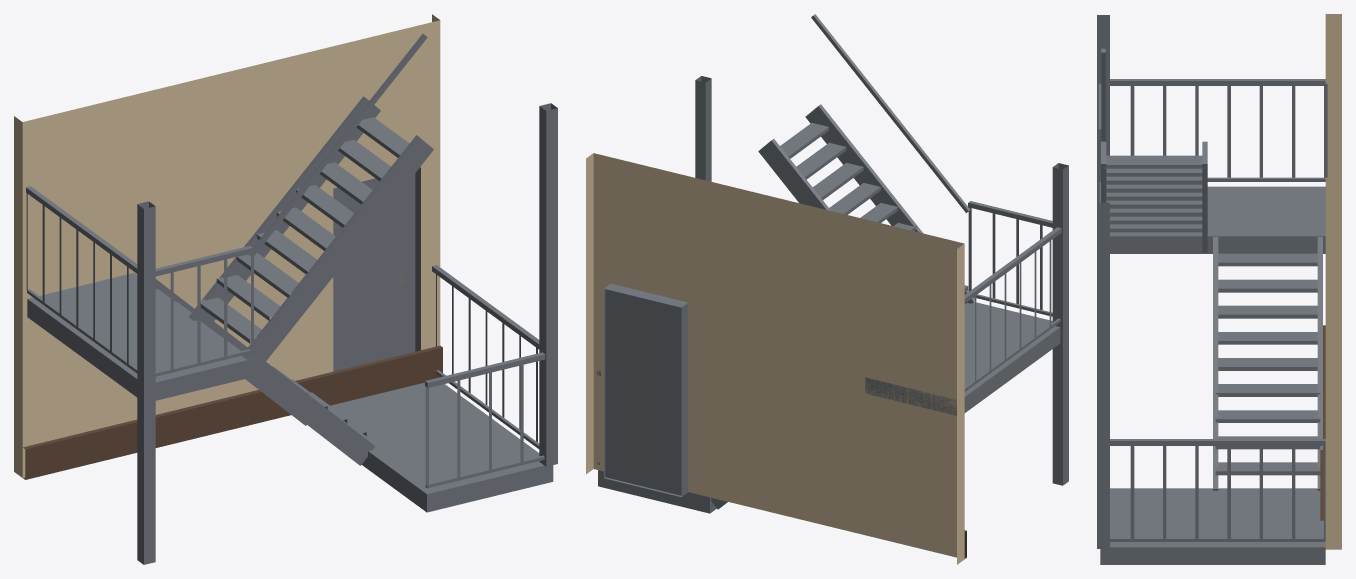
The model's file is mid-stair3.fbx.
3 renders of one model, left to right at view 1: azimuth 30°, elevation 25°; view 2: azimuth 150°, elevation 25°; view 3: azimuth 270°, elevation 25°, orthographic. The views are drawn at different scales.
Parts seen in each view (by area): view 1: a2009/200/mid-stair3; view 2: a2009/200/mid-stair3; view 3: a2009/200/mid-stair3.
Part boxes in pixels (x1,y1,x2,y2): a2009/200/mid-stair3: (14, 14, 557, 564); a2009/200/mid-stair3: (586, 14, 1068, 564); a2009/200/mid-stair3: (1097, 14, 1341, 564).
Bounding box in the file's own units: 4.3 × 4.69 × 2.28.
